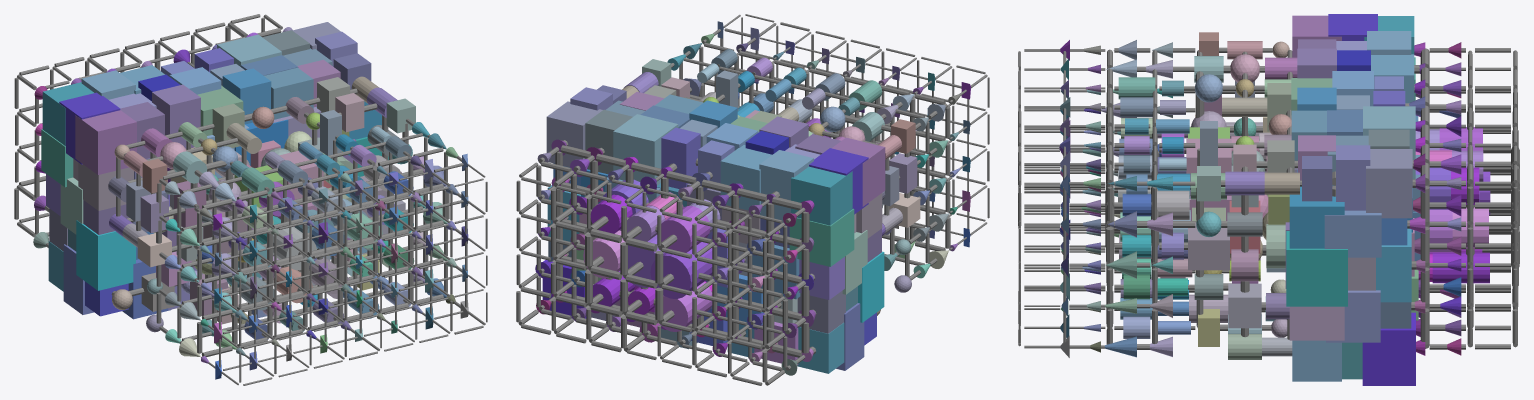
File: demo_spaceship.glb
3 views of the same model, side by side, from view 1: azimuth 30°, elevation 25°; view 2: azimuth 150°, elevation 25°; view 3: azimuth 270°, elevation 25° (orthographic). The views are drawn at different scales.
Visible parts, largest first — view 1: world; view 2: world; view 3: world.
Part boxes in pixels (<box>): world: <box>14,14,487,385</box>; world: <box>516,14,989,385</box>; world: <box>1018,14,1519,385</box>.
Size of the model in its own units: 12.4 by 8.3 by 16.71.
